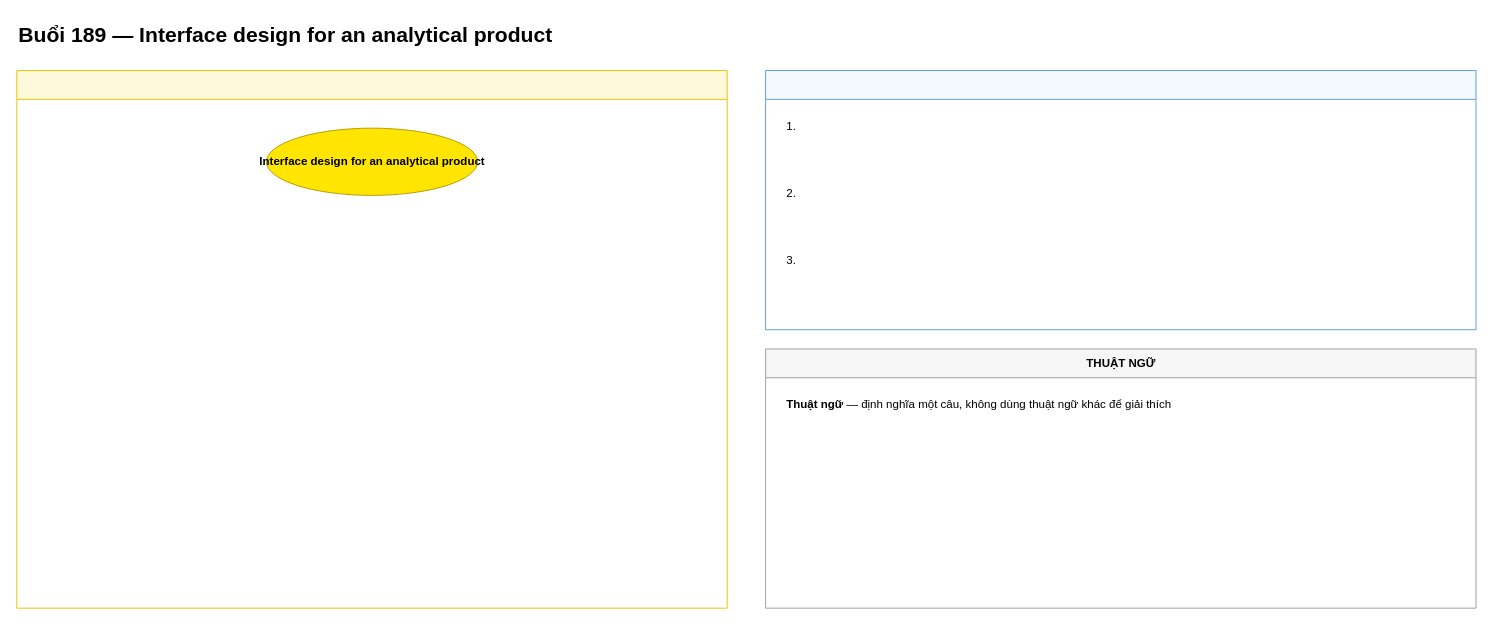
The diagram is 1493 pixels wide and 625 high, and some of its shapes have lost their labels. Here are the shapes that lost their labels. From the top down, the box of each, then its label:
(765, 70, 1476, 330): KEY TAKEAWAY — ba điều phải nhớ
(16, 70, 727, 608): MINDMAP
